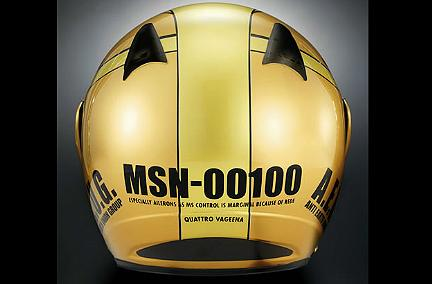helmet: (89, 15, 353, 256)
